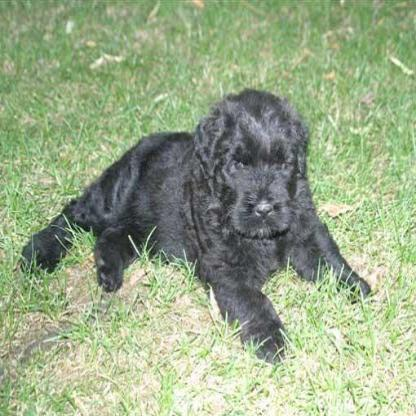Bouvier_des_Flandres: (21, 85, 371, 365)
